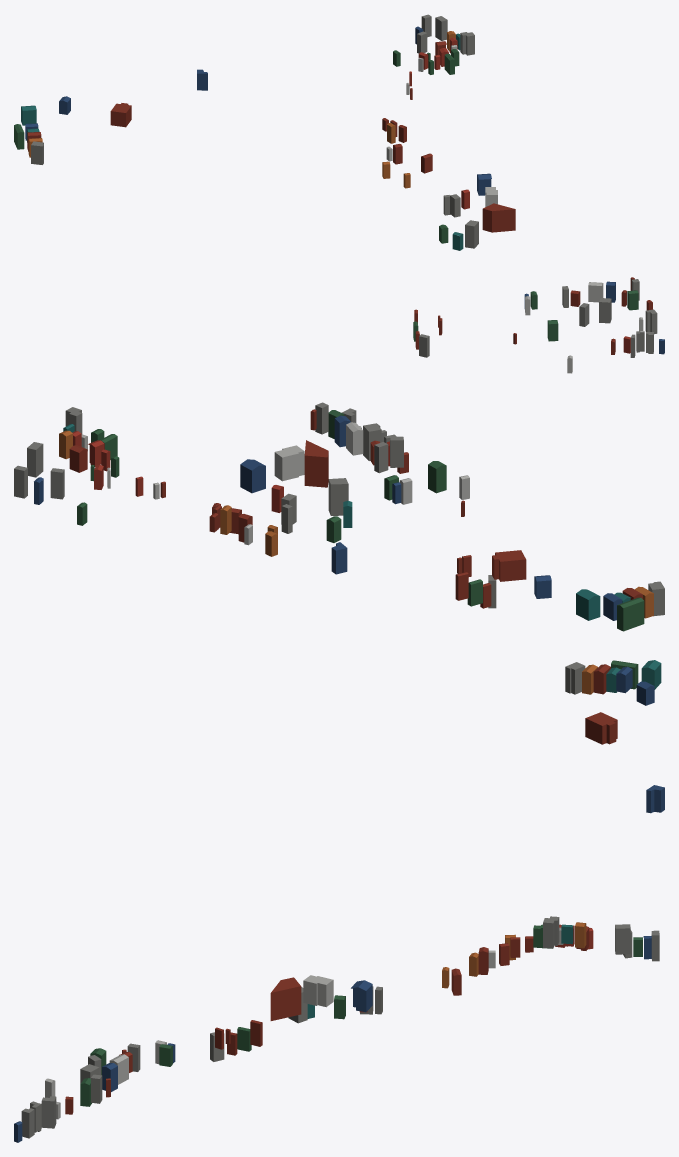
The model's file is near-16-54723-29745.b802bd4d.glb.
3 renders of one model, top to bottom at view 1: azimuth 30°, elevation 25°; view 2: azimuth 150°, elevation 25°; view 3: azimuth 270°, elevation 25°, orthographic. The views are drawn at different scales.
Size of the model in its own units: 593 by 247 by 584.
